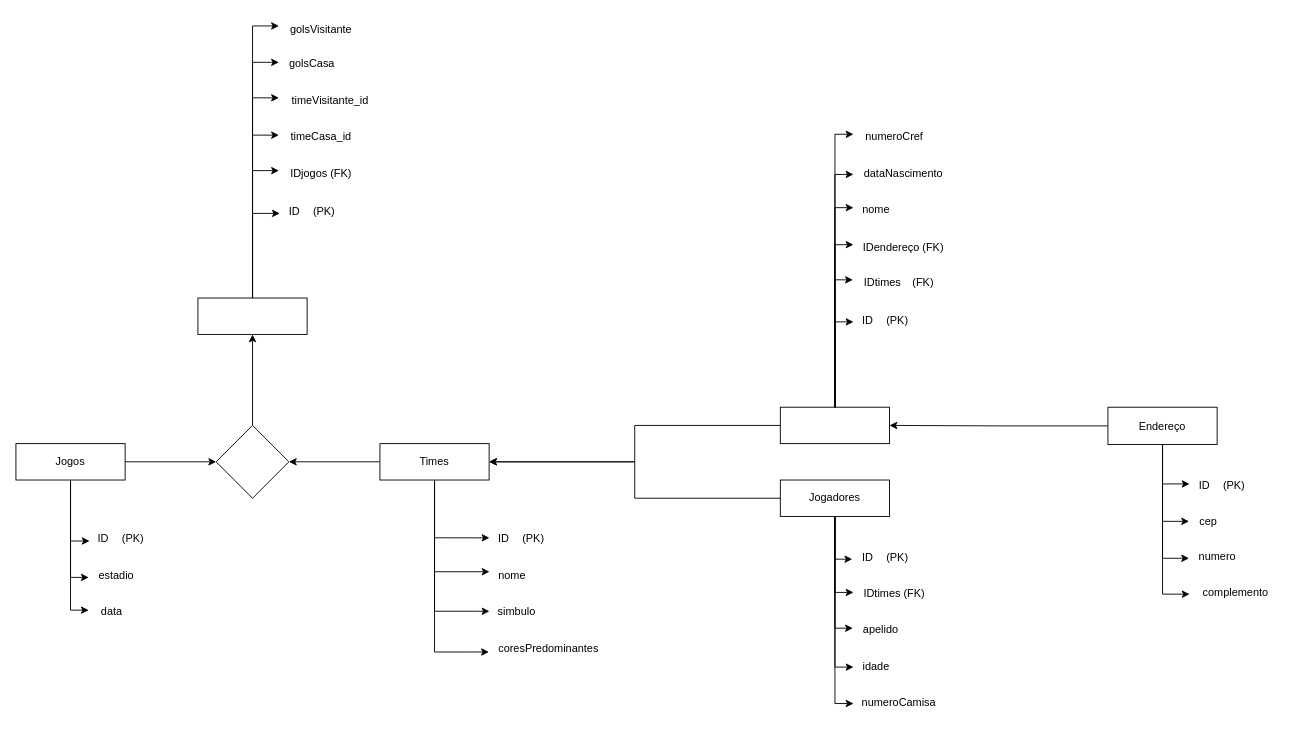
Some shapes in this 1297 by 732 pixel diagram are drawn without their labels. The centre of each missing label's shape, as x and y in pixels:
"Tecnicos" goes at point 834,425.
"Time em Jogo" goes at point 252,315.
